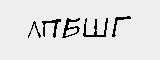Б: (62, 15, 81, 39)
Г: (112, 15, 129, 39)
Л: (26, 19, 39, 41)
П: (42, 17, 59, 38)
Ш: (82, 15, 108, 39)
